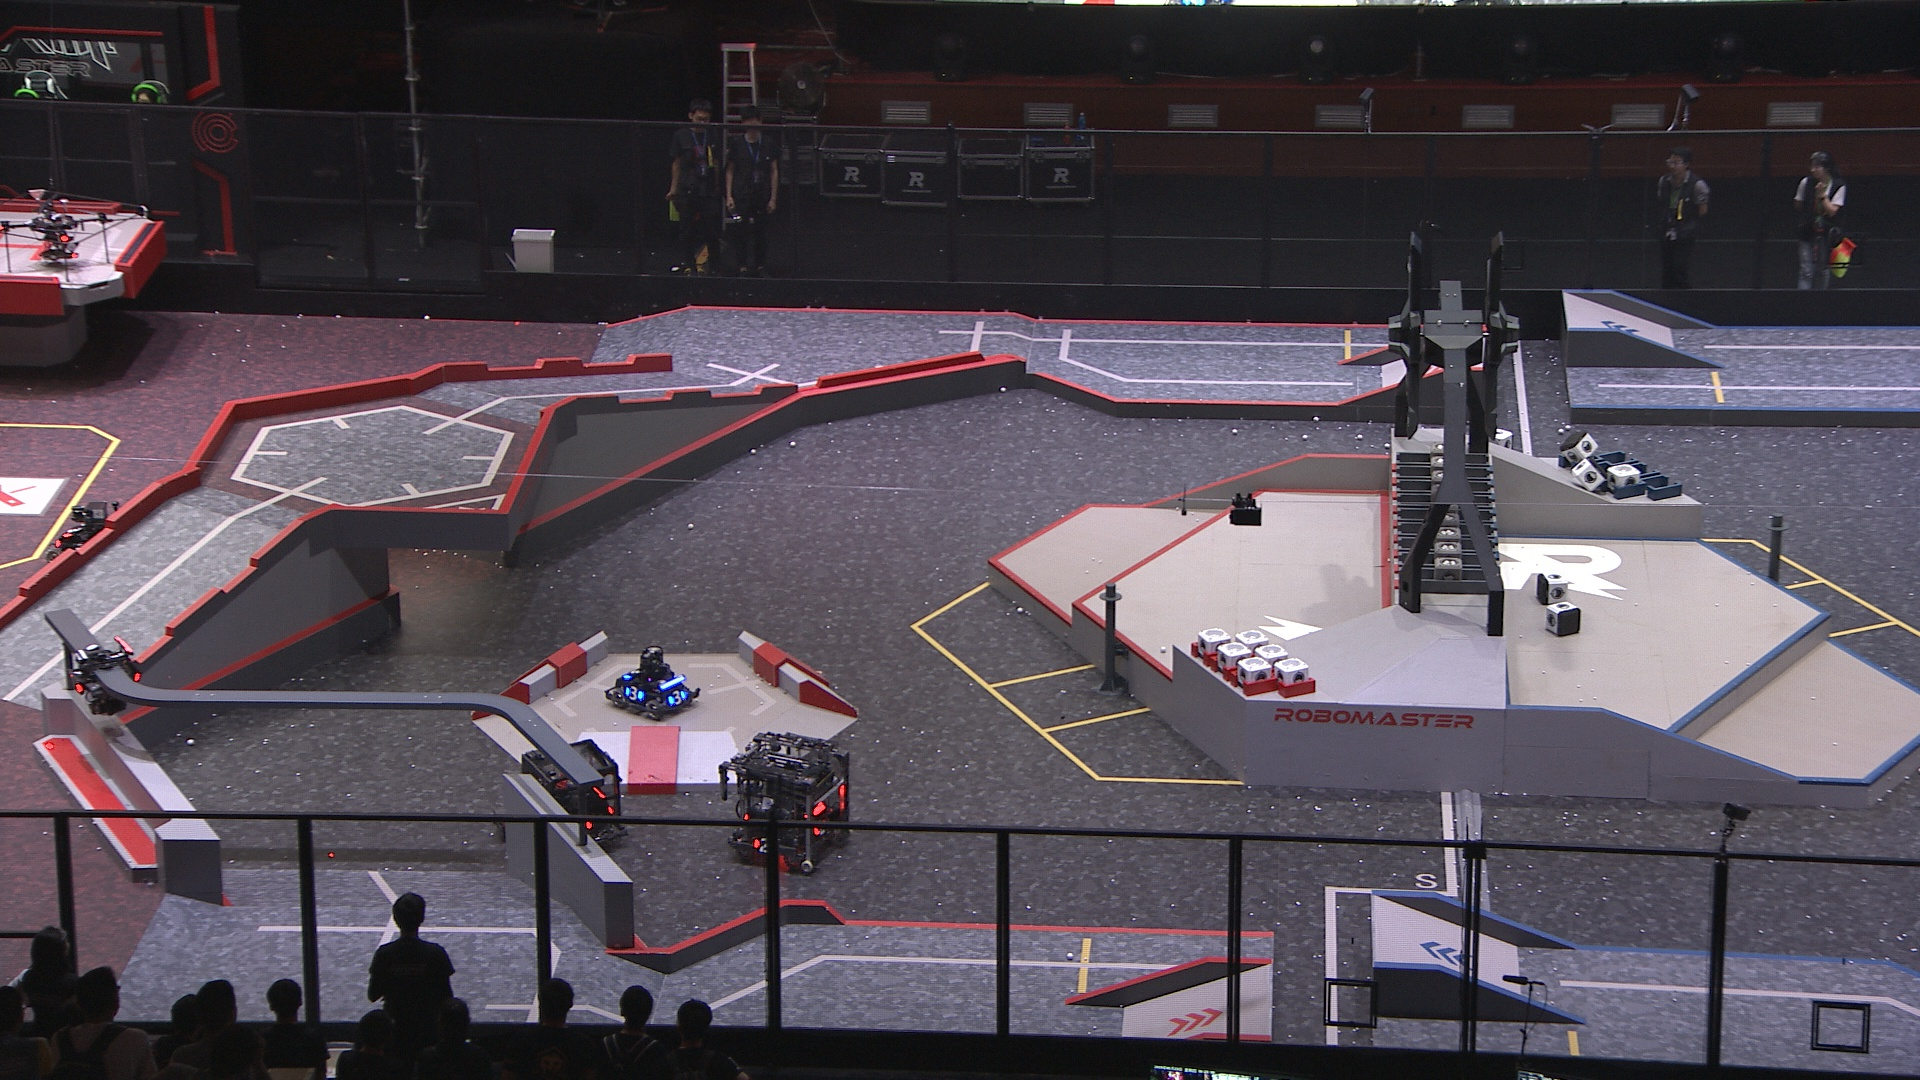armor: (750, 836, 774, 855), (65, 670, 83, 694), (811, 818, 832, 837), (59, 520, 82, 535), (622, 684, 642, 702), (669, 688, 686, 707), (624, 666, 644, 679)
car: (723, 731, 855, 873), (512, 731, 633, 843), (605, 647, 698, 717), (41, 495, 128, 568)
watcher: (62, 637, 146, 717)
